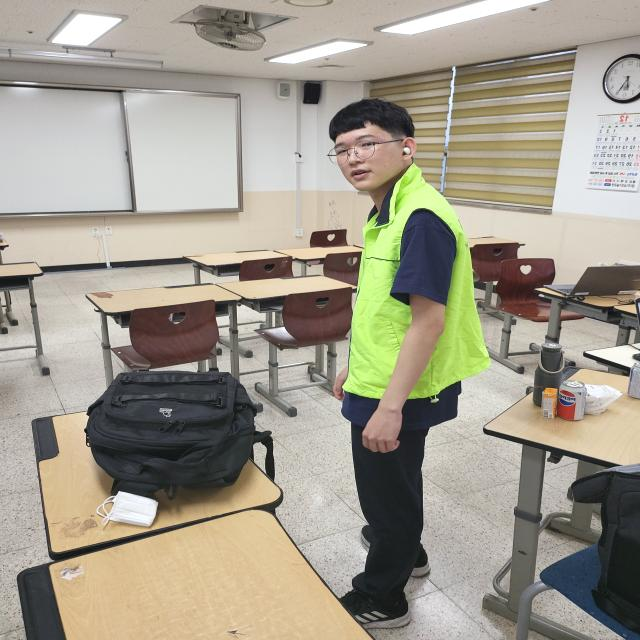weston_spy: (312, 148, 512, 423)
